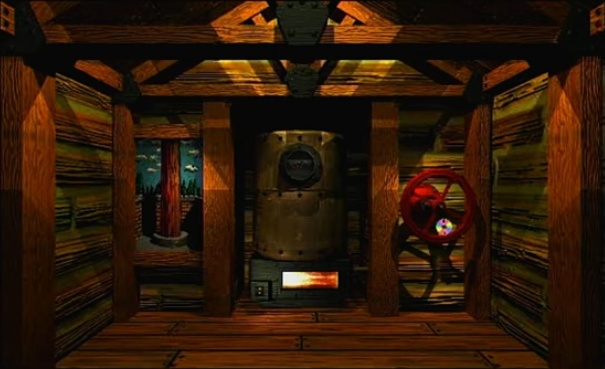Waiting: (432, 215, 456, 237)
